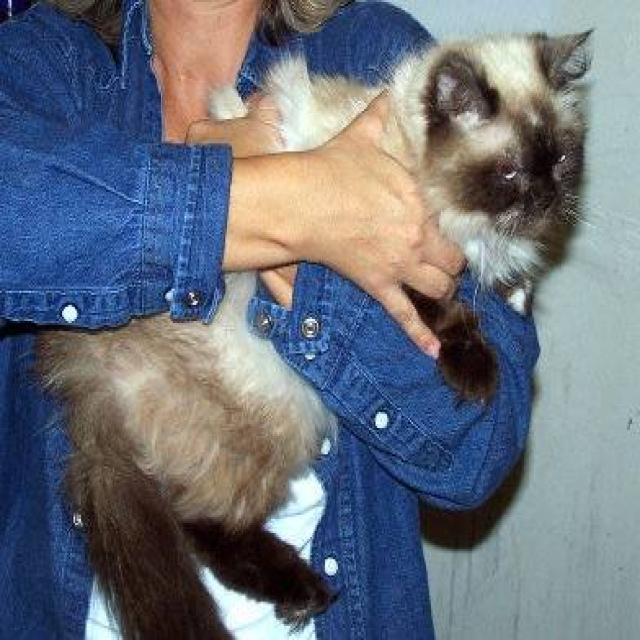cat: (33, 26, 594, 638)
